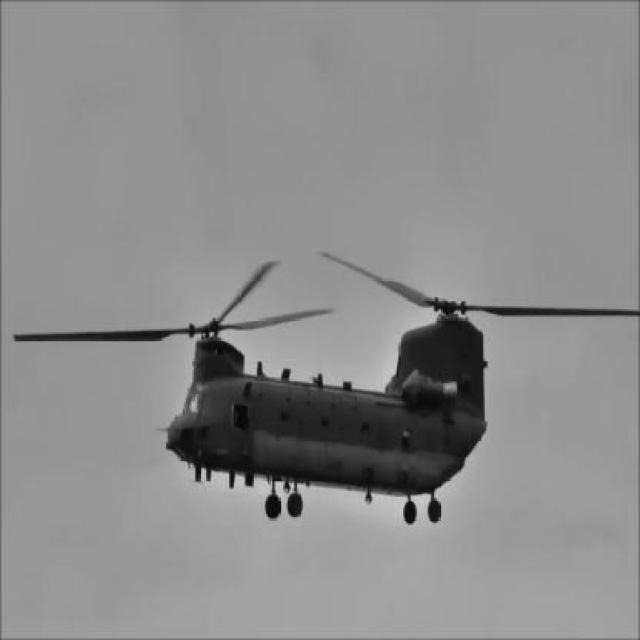Helicopter: (11, 247, 640, 529)
